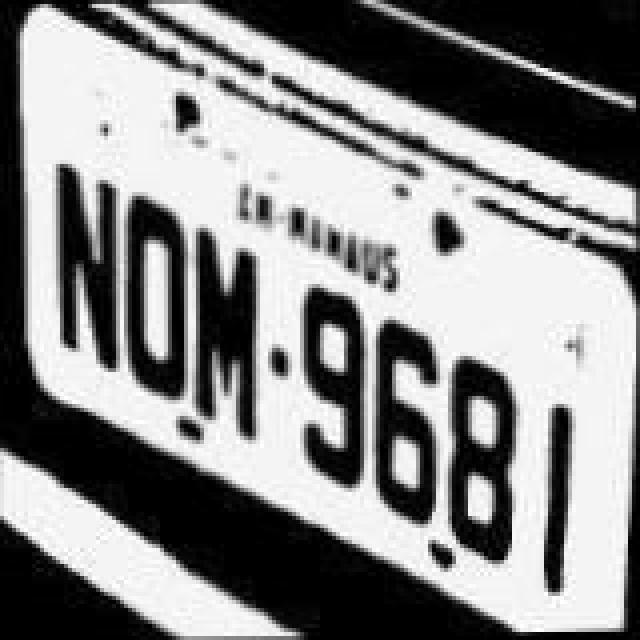1: (530, 380, 586, 612)
6: (370, 312, 446, 544)
8: (446, 340, 522, 580)
9: (294, 276, 378, 504)
M: (184, 228, 260, 444)
N: (52, 150, 128, 394)
O: (120, 186, 196, 410)
